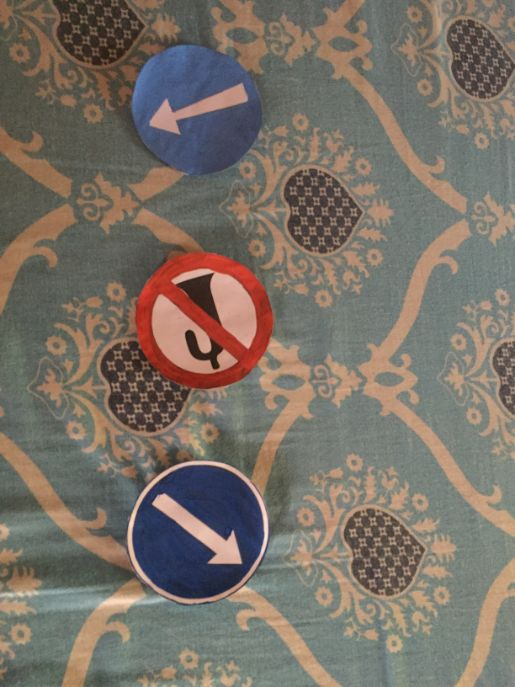go-stright: (126, 459, 271, 607)
keep-left: (130, 45, 268, 177)
no-horn: (137, 254, 272, 385)
